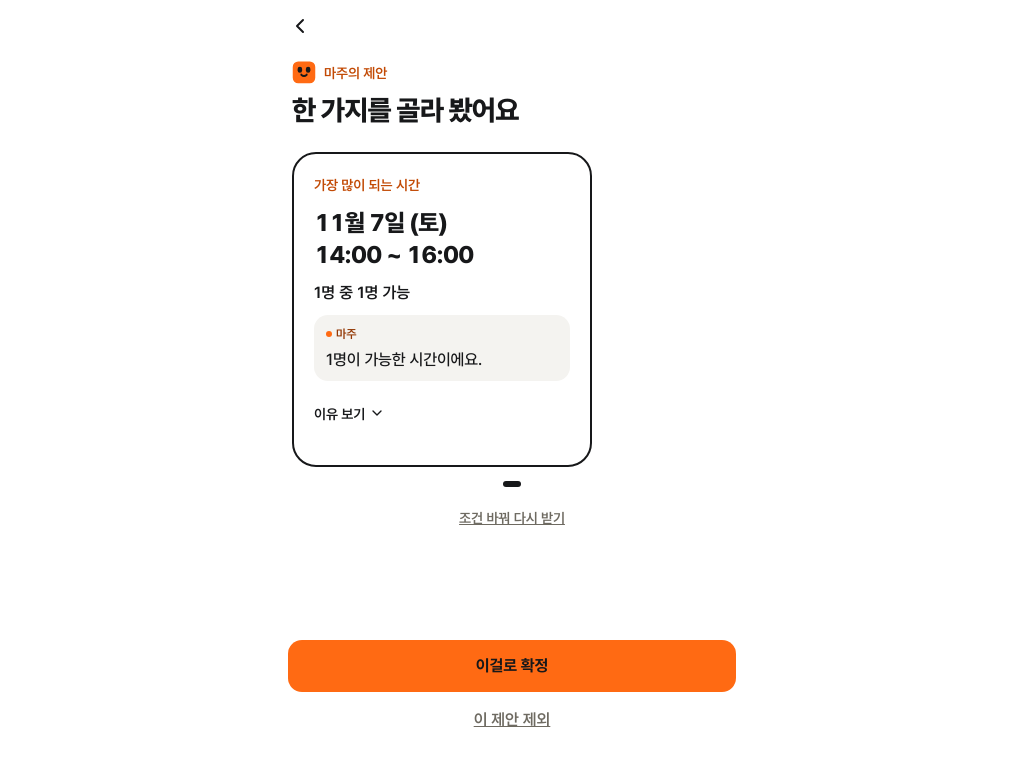
Test case: NO_MATCH면 시트 안에 안내 문구를 보여 주고 기존 제안은 그대로 둔다
Click the button "조건 바꿔 다시 받기" at (512, 517), box [447,499,577,535]
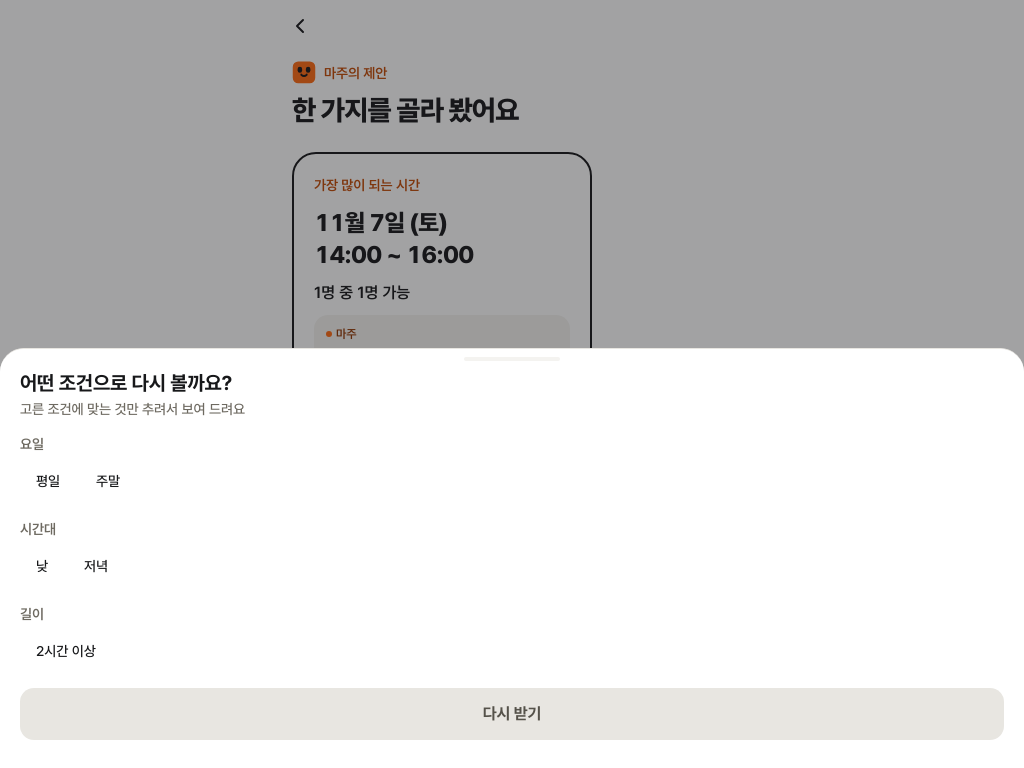
Click the button "주말" at (108, 480), box [80,462,136,498]
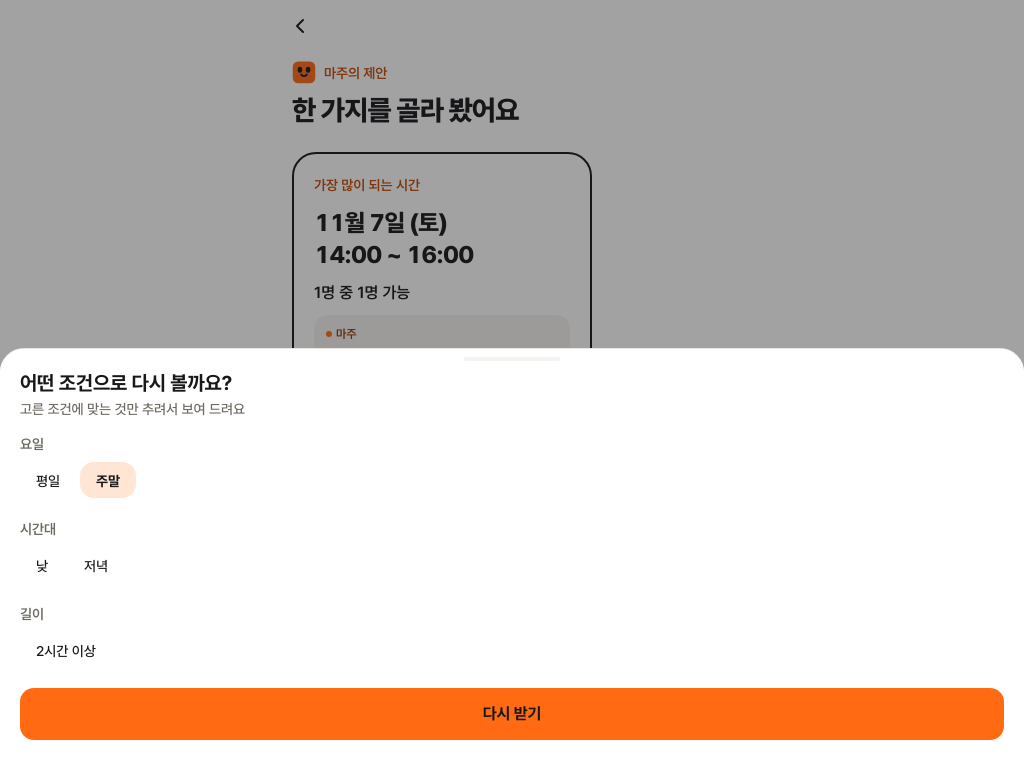
Click the button "다시 받기" at (512, 714), box [20,688,1004,740]
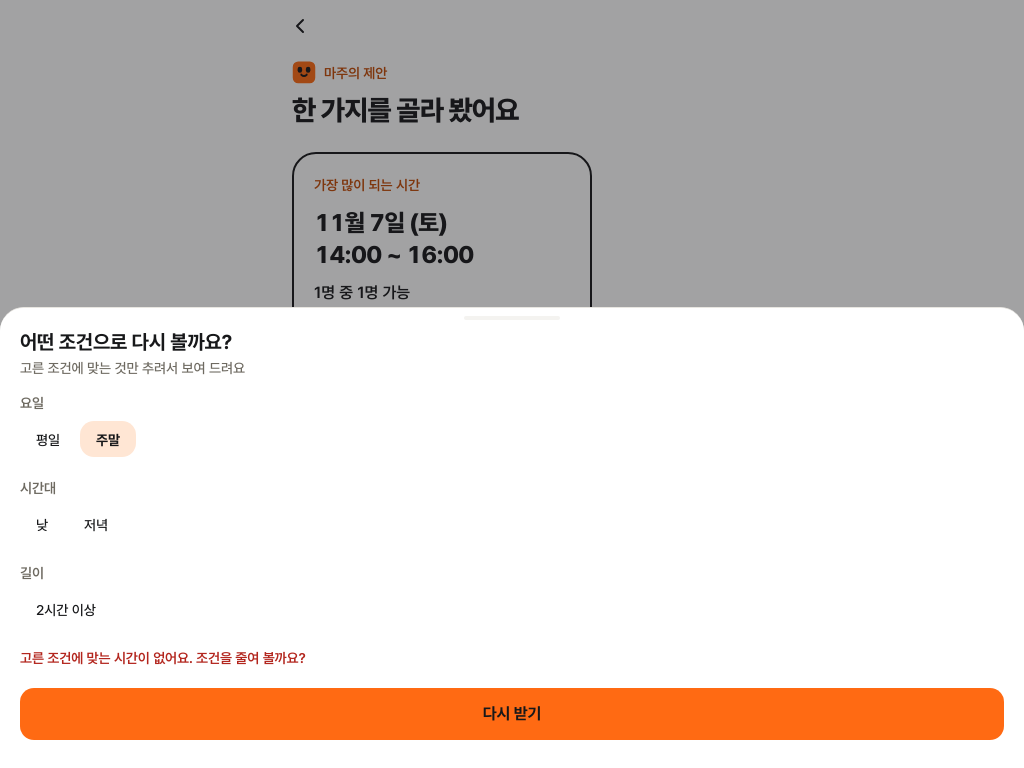
Expected: the button "이걸로 확정" is shown, [288,640,736,692]
Expected: the button "다시 받기" is shown, [20,688,1004,740]
Expected: the text "고른 조건에 맞는 시간이 없어요. 조건을 줄여 볼까요?" is shown, [20,648,306,667]
